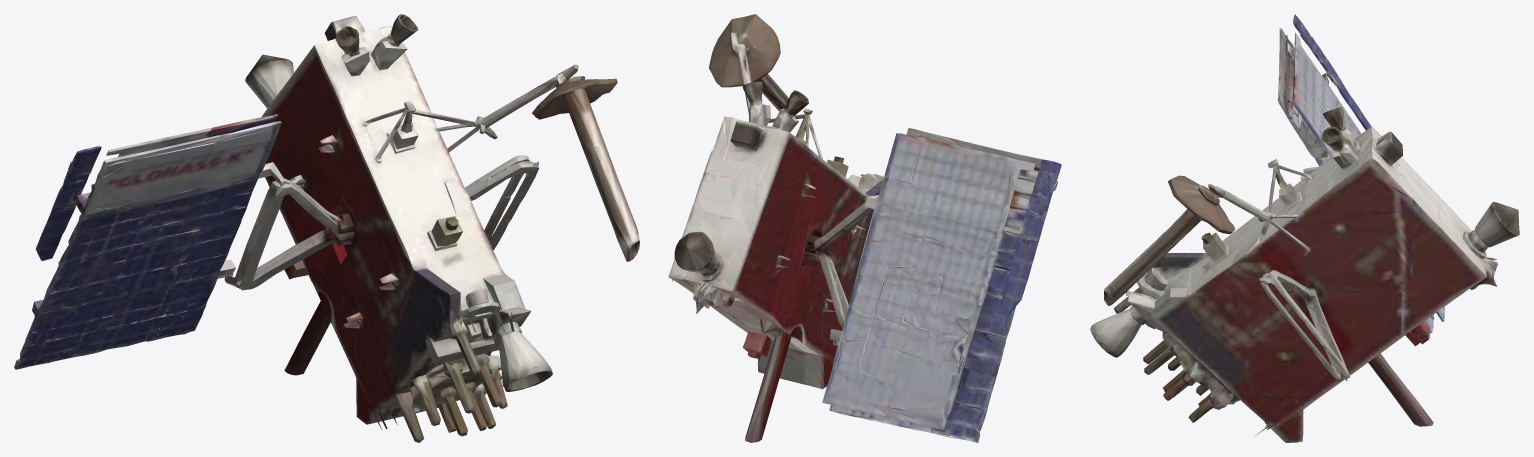
The model's file is technology-03.glb.
The picture shows the model from 3 angles, left to right: view 1: azimuth 30°, elevation 25°; view 2: azimuth 150°, elevation 25°; view 3: azimuth 270°, elevation 25°; orthographic projection. The views are drawn at different scales.
Visible parts, largest first — view 1: tmp1iypj50j.obj; view 2: tmp1iypj50j.obj; view 3: tmp1iypj50j.obj.
Boxes of the visible parts, <box> form: tmp1iypj50j.obj: <box>14,14,639,442</box>; tmp1iypj50j.obj: <box>668,14,1061,442</box>; tmp1iypj50j.obj: <box>1090,14,1519,442</box>.
Size of the model in its own units: 1.5 by 1.15 by 1.41.
1 material, 1 textured.
